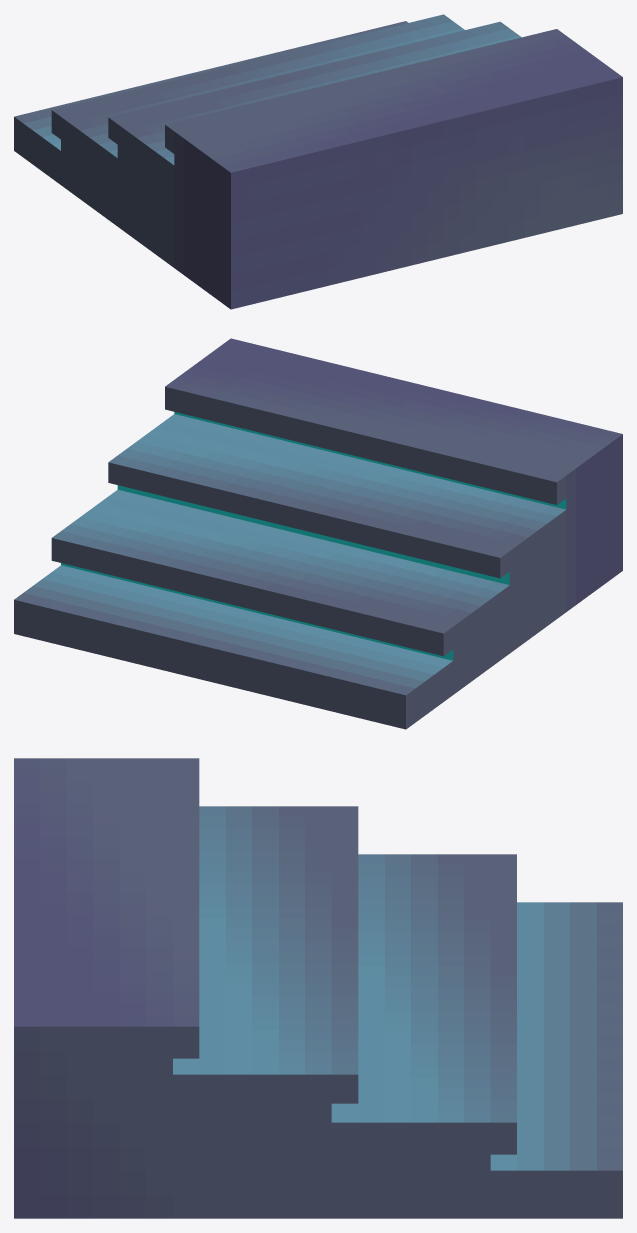
The model's file is stairs.gltf.
3 views of the same model, one above another, from view 1: azimuth 30°, elevation 25°; view 2: azimuth 150°, elevation 25°; view 3: azimuth 270°, elevation 25° (orthographic). The views are drawn at different scales.
Parts seen in each view (by area): view 1: mesh; view 2: mesh; view 3: mesh.
Boxes of the visible parts, bbox=[...] form: mesh: bbox=[14, 14, 622, 309]; mesh: bbox=[14, 338, 622, 729]; mesh: bbox=[14, 758, 622, 1218].
Bounding box in the file's own units: 1.5 × 0.5 × 1.44.
Materials: 1 (1 with a texture image).
